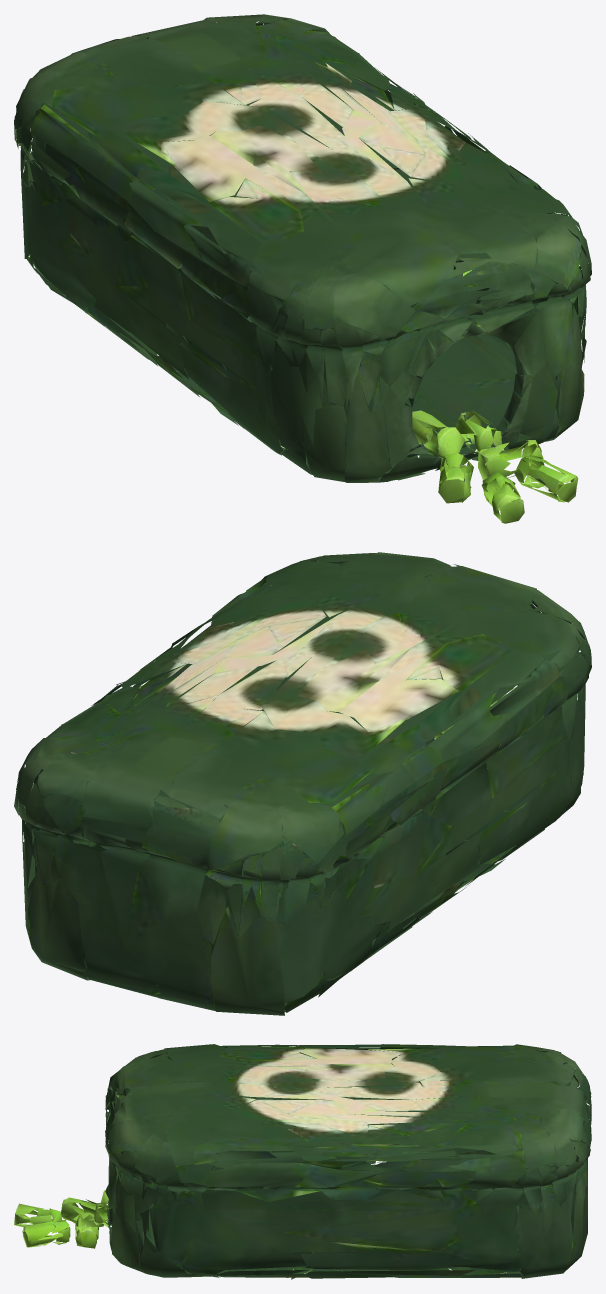
The model's file is poison_box.glb.
3 views of the same model, one above another, from view 1: azimuth 30°, elevation 25°; view 2: azimuth 150°, elevation 25°; view 3: azimuth 270°, elevation 25° (orthographic). The views are drawn at different scales.
Visible parts, largest first — view 1: poison_box; view 2: poison_box; view 3: poison_box.
Boxes of the visible parts, x1=… form: poison_box: x1=14, y1=14, x2=591, y2=523; poison_box: x1=14, y1=552, x2=591, y2=1015; poison_box: x1=14, y1=1044, x2=591, y2=1279.
Bounding box in the file's own units: 0.1291 × 0.0815 × 0.28.
Materials: 1 (1 with a texture image).
